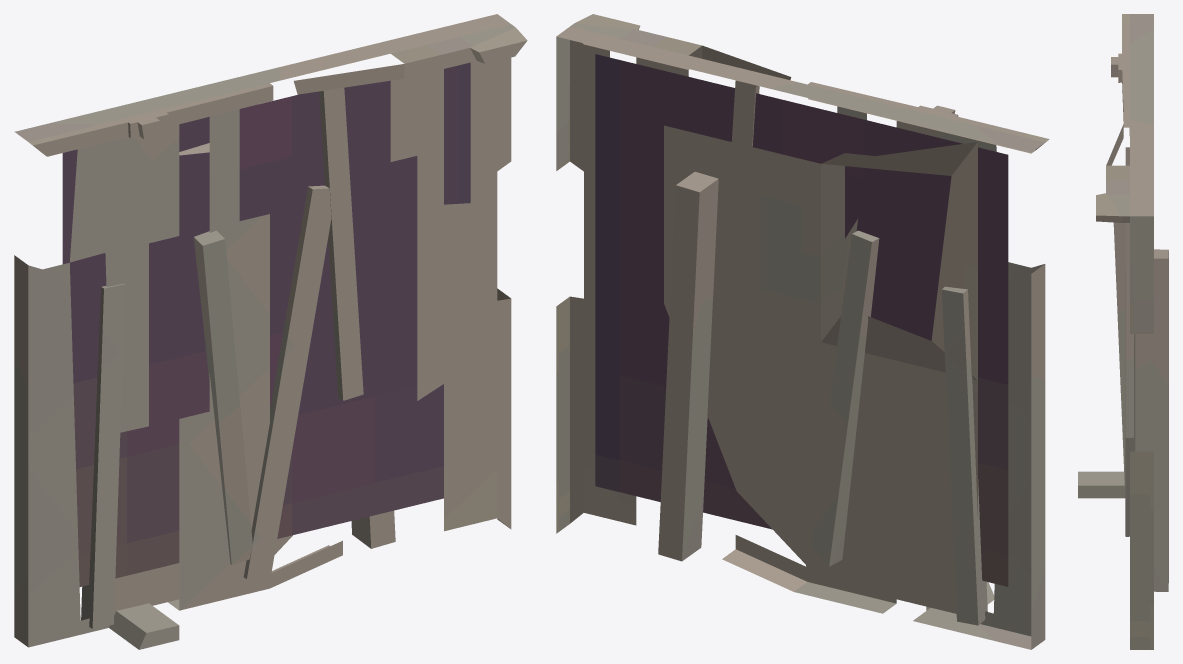
The model's file is 028_floor_wood.gltf.
3 views of the same model, side by side, from view 1: azimuth 30°, elevation 25°; view 2: azimuth 150°, elevation 25°; view 3: azimuth 270°, elevation 25° (orthographic). The views are drawn at different scales.
Parts seen in each view (by area): view 1: floor_wood; view 2: floor_wood; view 3: floor_wood.
Part boxes in pixels (x1=…): floor_wood: x1=14, y1=14, x2=527, y2=649; floor_wood: x1=556, y1=14, x2=1049, y2=649; floor_wood: x1=1078, y1=14, x2=1168, y2=649.
Bounding box in the file's own units: 2 × 2 × 0.3793.
1 material, 1 textured.
